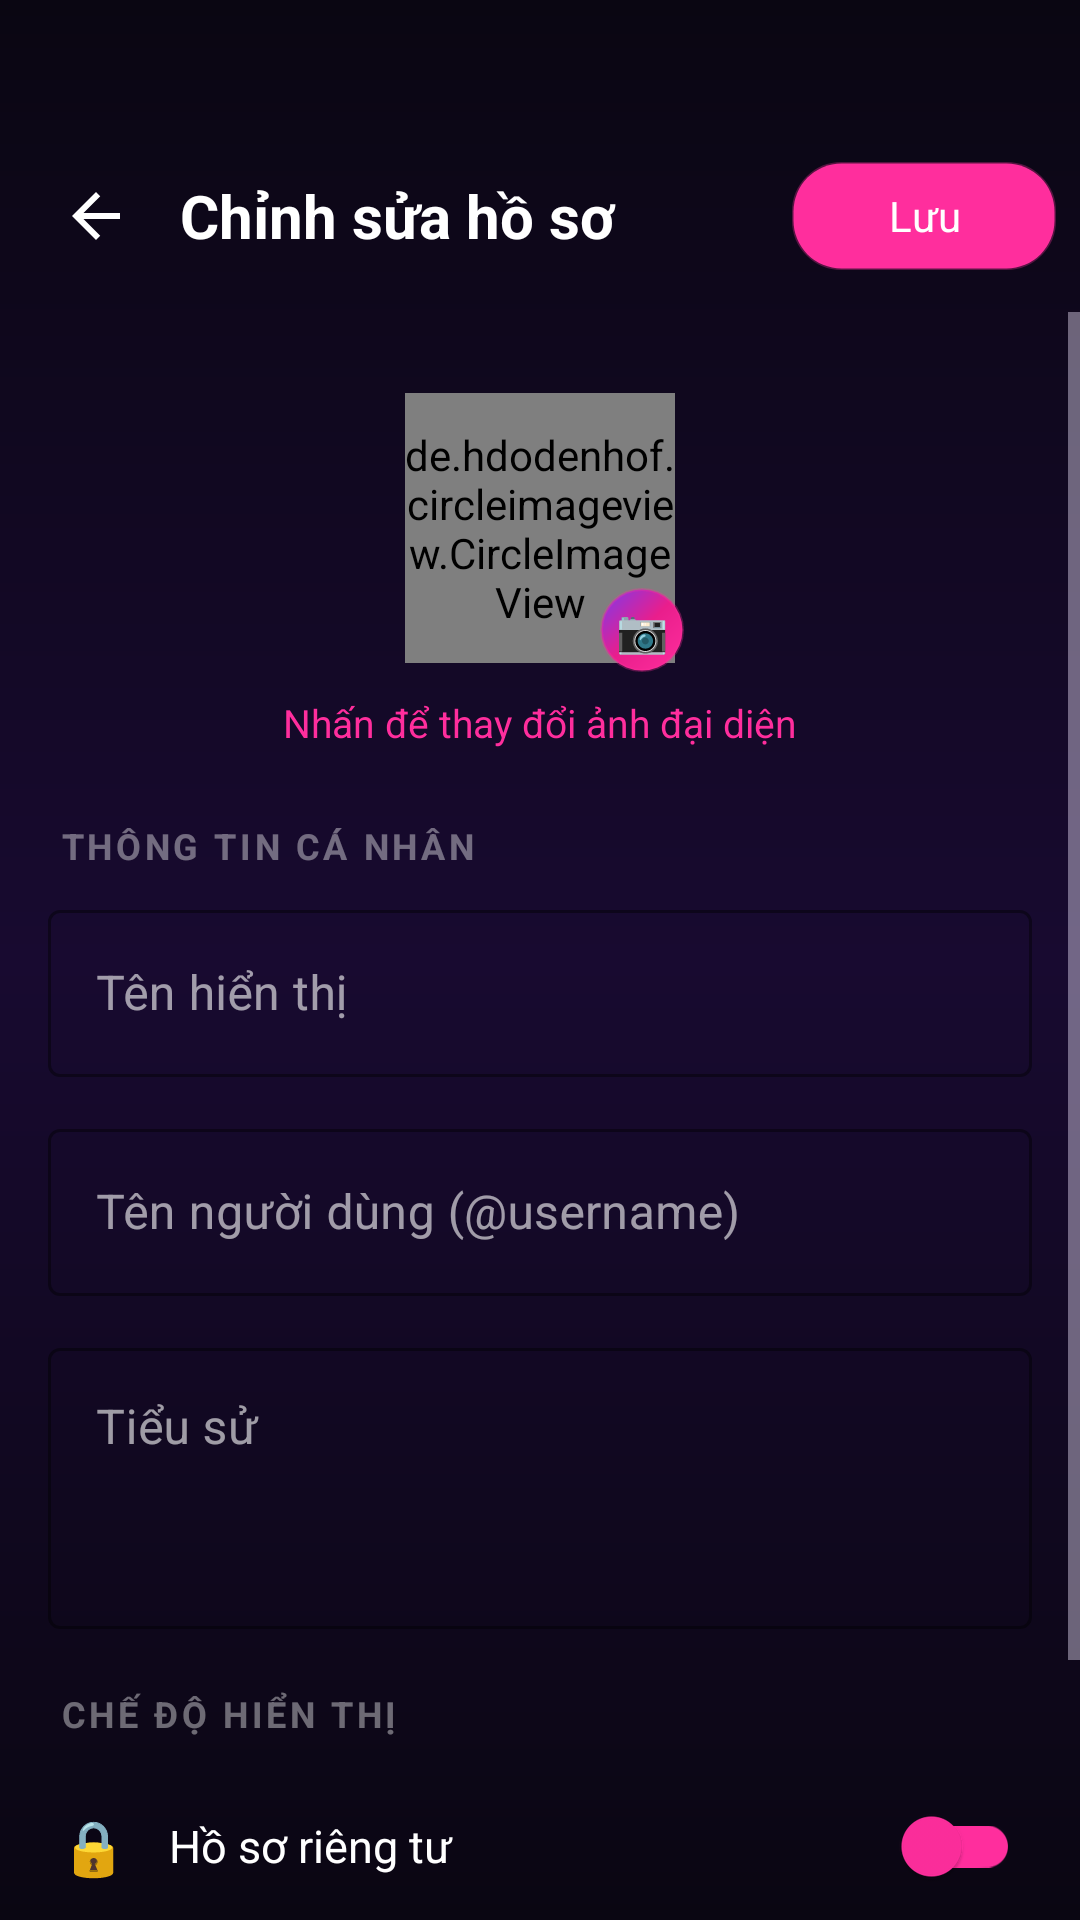

Named icons in this screenshot (1080*1920) and their bounding boxes, (x1,y1,x2,y2):
Quay lại: (72,192,120,240)
